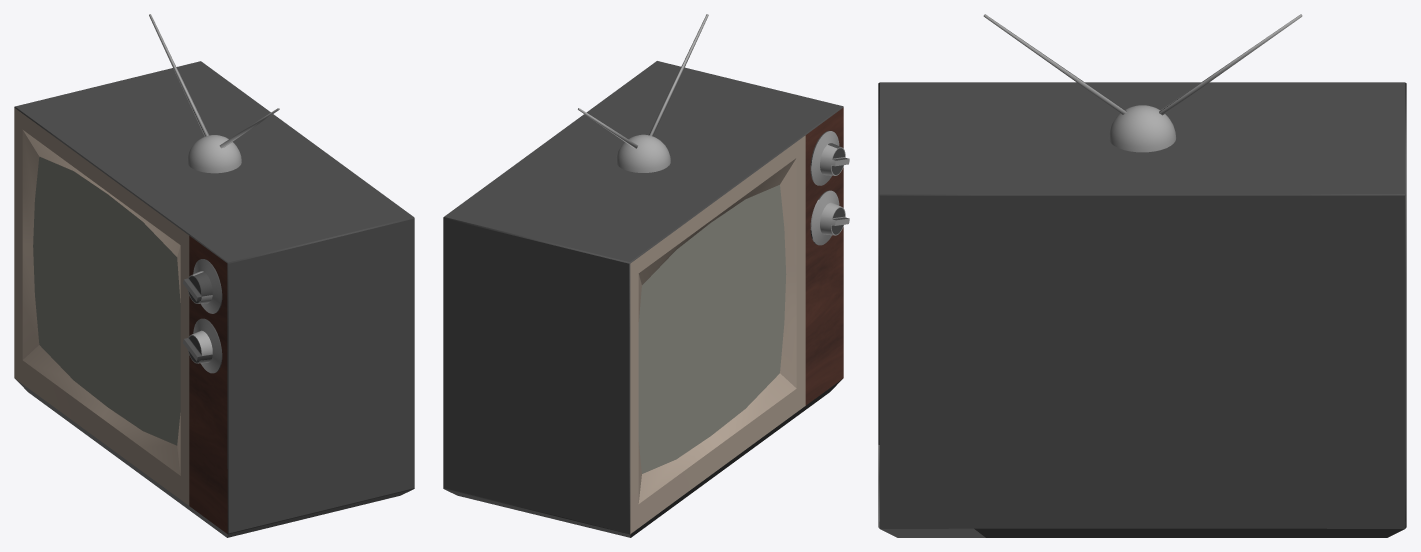
3 renders of one model, left to right at view 1: azimuth 30°, elevation 25°; view 2: azimuth 150°, elevation 25°; view 3: azimuth 270°, elevation 25°, orthographic. The views are drawn at different scales.
Visible parts, largest first — view 1: TV; view 2: TV; view 3: TV.
Part boxes in pixels (<box>): TV: <box>14,14,414,537</box>; TV: <box>443,14,849,537</box>; TV: <box>878,14,1406,537</box>.
Size of the model in its own units: 0.44 by 0.7846 by 0.7971.
5 materials, 1 textured.
